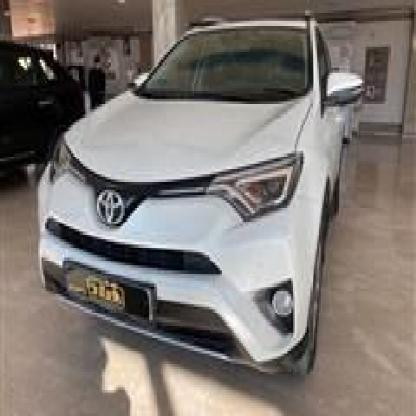Car: (33, 21, 357, 398), (0, 31, 86, 192)
